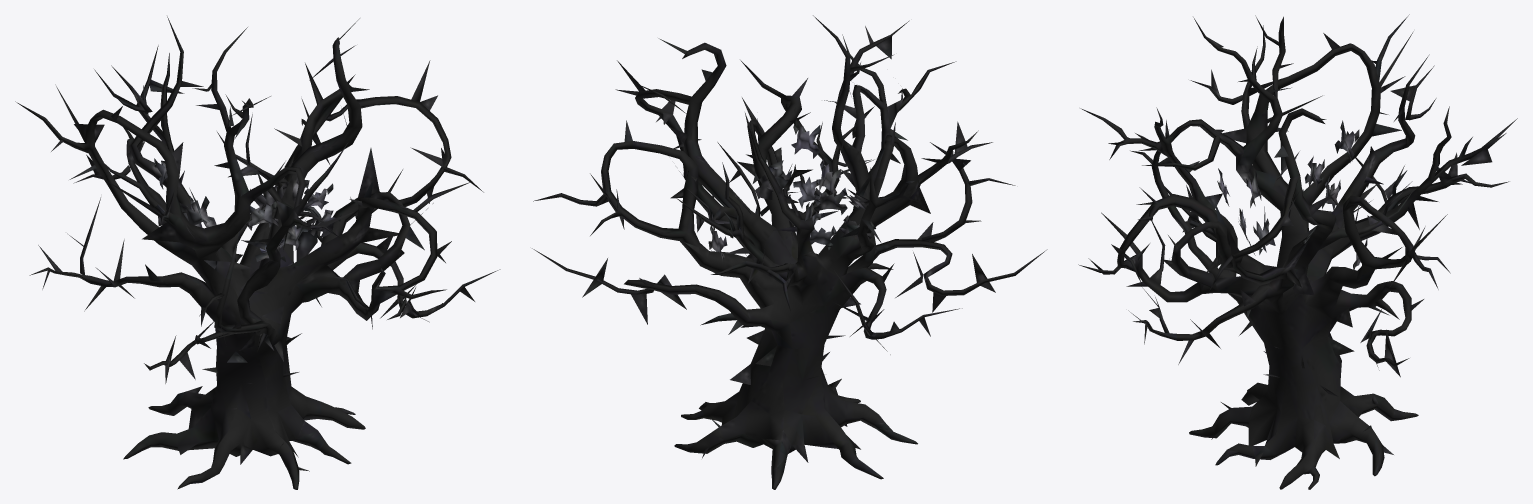
Rendered from prop_node_blackthorn.glb.
The picture shows the model from 3 angles, left to right: view 1: azimuth 30°, elevation 25°; view 2: azimuth 150°, elevation 25°; view 3: azimuth 270°, elevation 25°; orthographic projection. The views are drawn at different scales.
Visible parts, largest first — view 1: tripo_node_4dbaccf3-3417-47ec-85ed-f913c42b91f3; view 2: tripo_node_4dbaccf3-3417-47ec-85ed-f913c42b91f3; view 3: tripo_node_4dbaccf3-3417-47ec-85ed-f913c42b91f3.
Boxes of the visible parts, box(x1,y1,x2,y2) form: tripo_node_4dbaccf3-3417-47ec-85ed-f913c42b91f3: box(15, 16, 500, 489); tripo_node_4dbaccf3-3417-47ec-85ed-f913c42b91f3: box(532, 15, 1047, 489); tripo_node_4dbaccf3-3417-47ec-85ed-f913c42b91f3: box(1078, 14, 1517, 489).
Size of the model in its own units: 0.9902 by 0.998 by 0.9511.
Materials: 1 (1 with a texture image).
